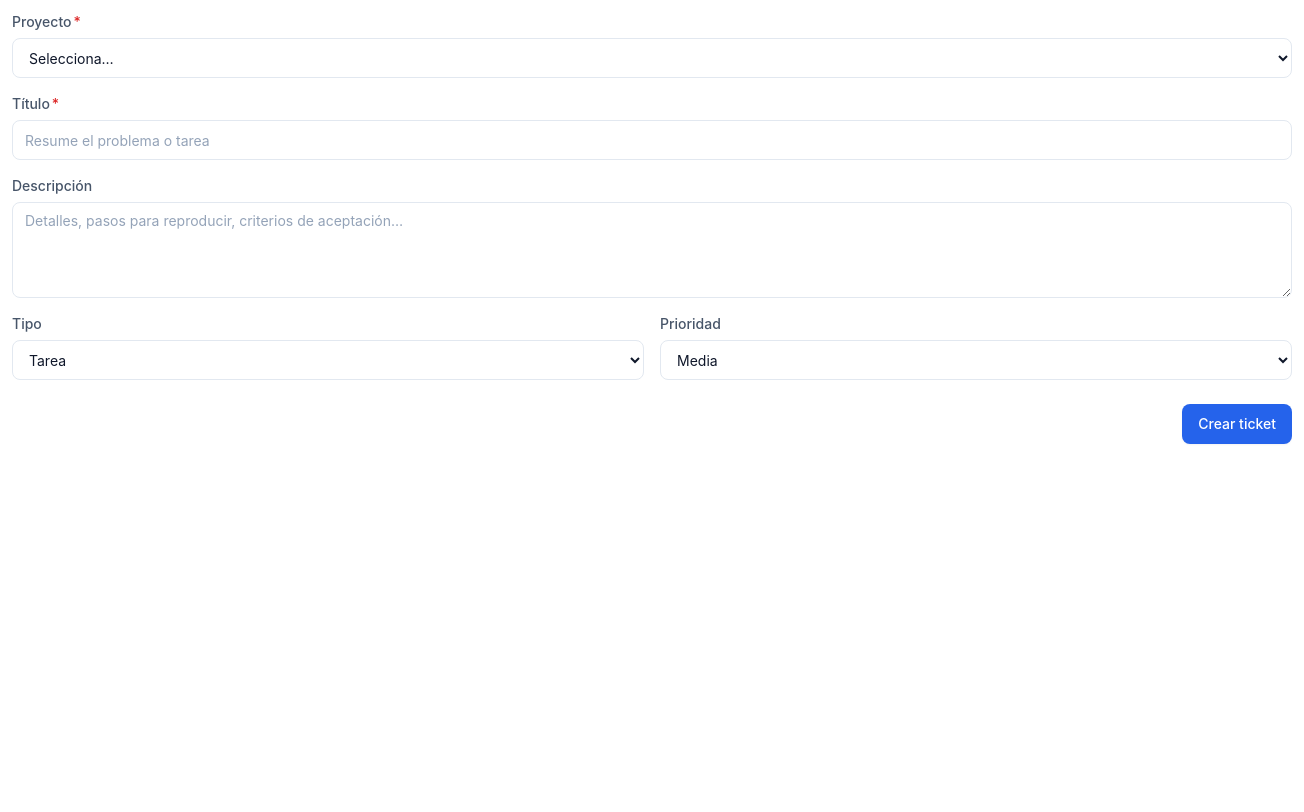
Test: TicketForm › no envía el formulario si el título es muy corto
Select "TST · Proyecto test" in the dropdown labelled "Proyecto*" at (652, 58), box [12,38,1292,78]
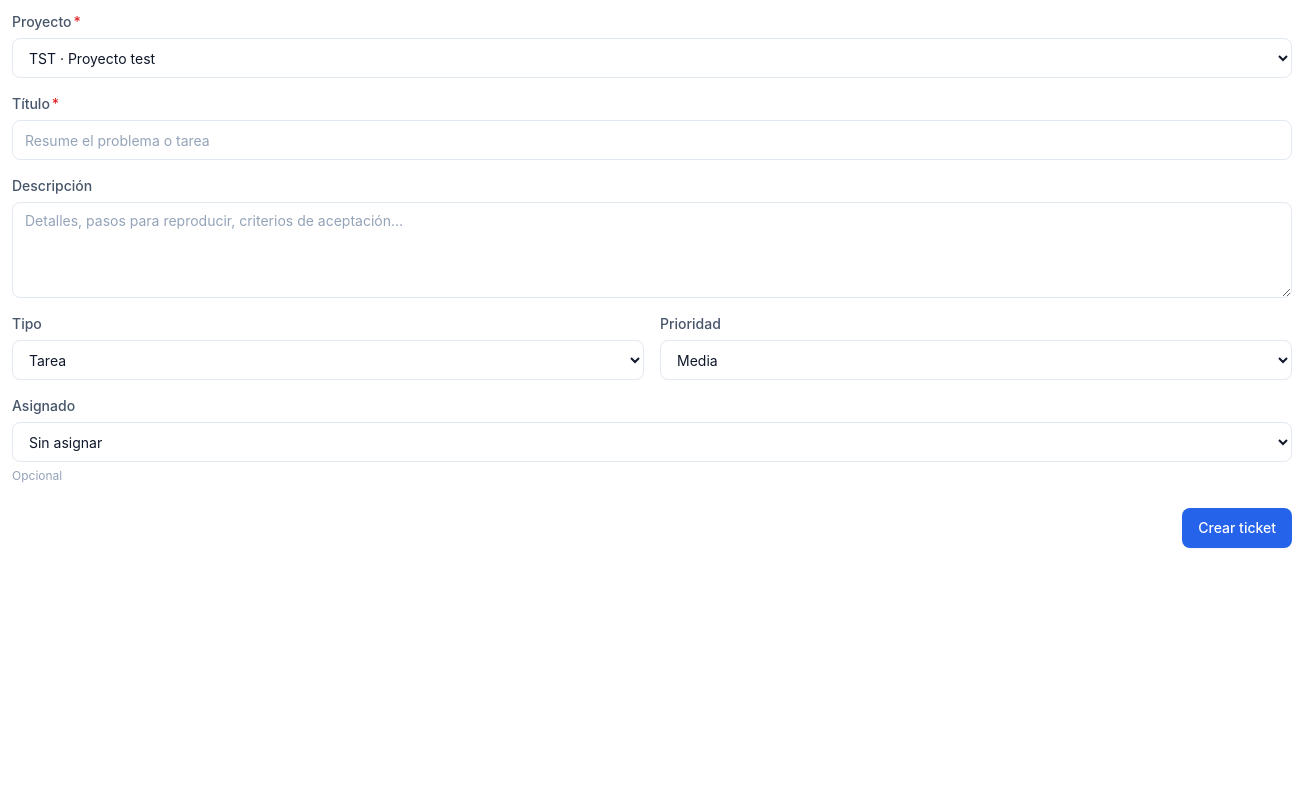
Type "ab" into the field labelled "Título*" at (652, 140), box [12,120,1292,160]
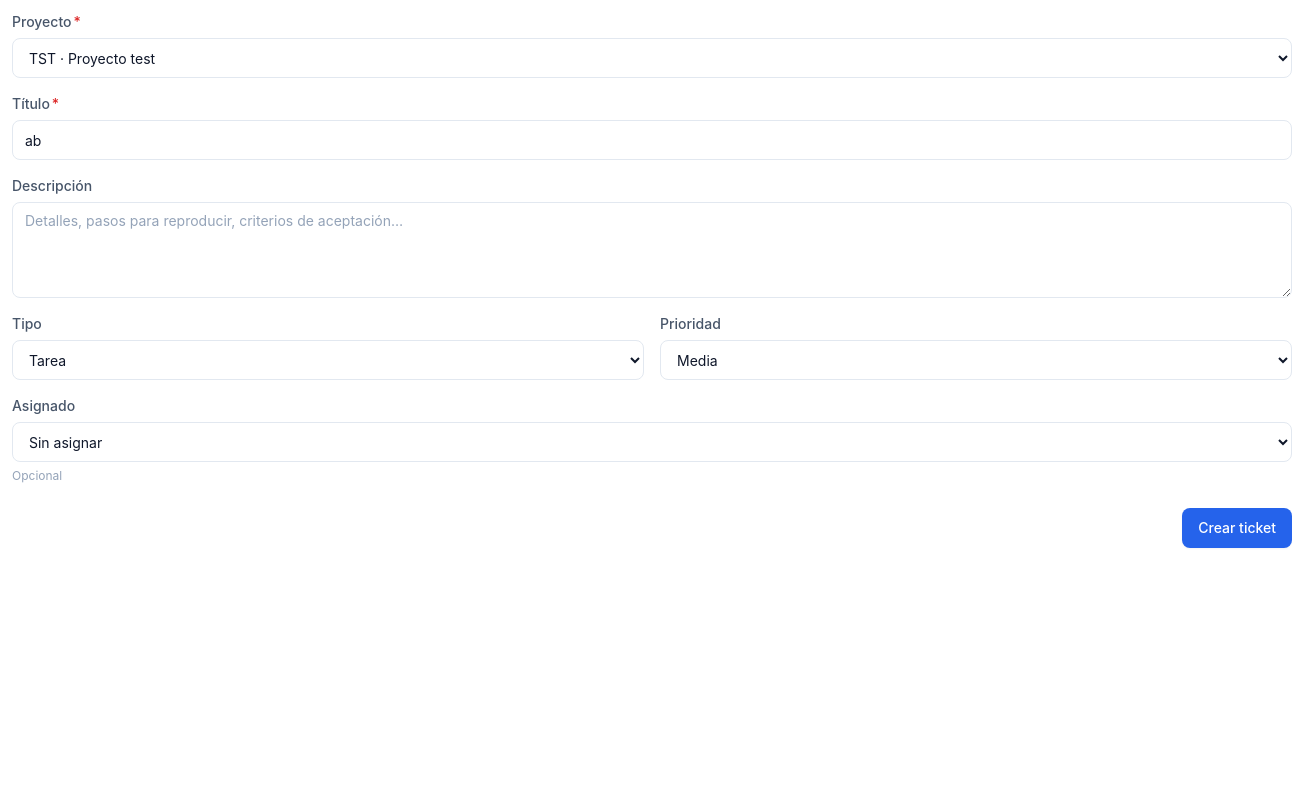
Click the button "Crear ticket" at (1237, 528), box [1182,508,1292,548]
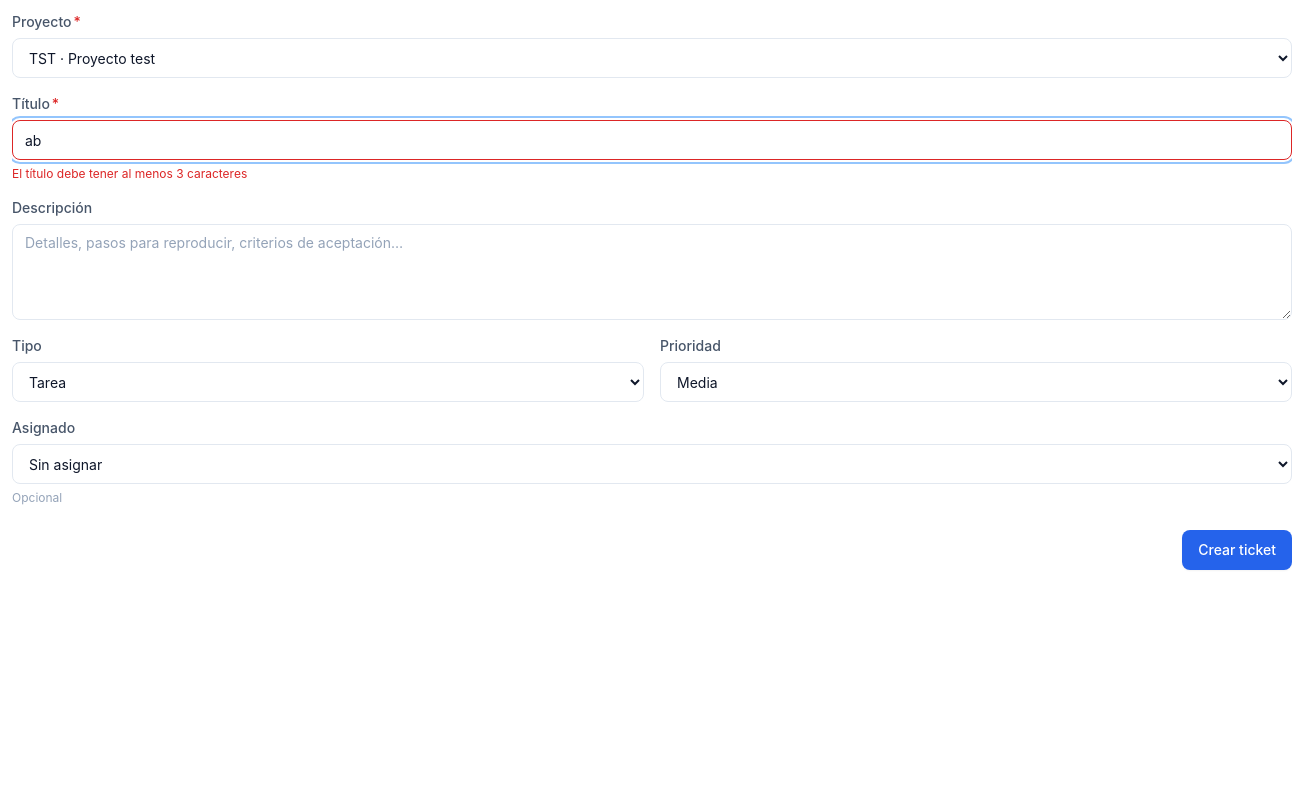
Result: the text "El título debe tener al menos 3 caracteres" is shown at [12,166,247,181]
